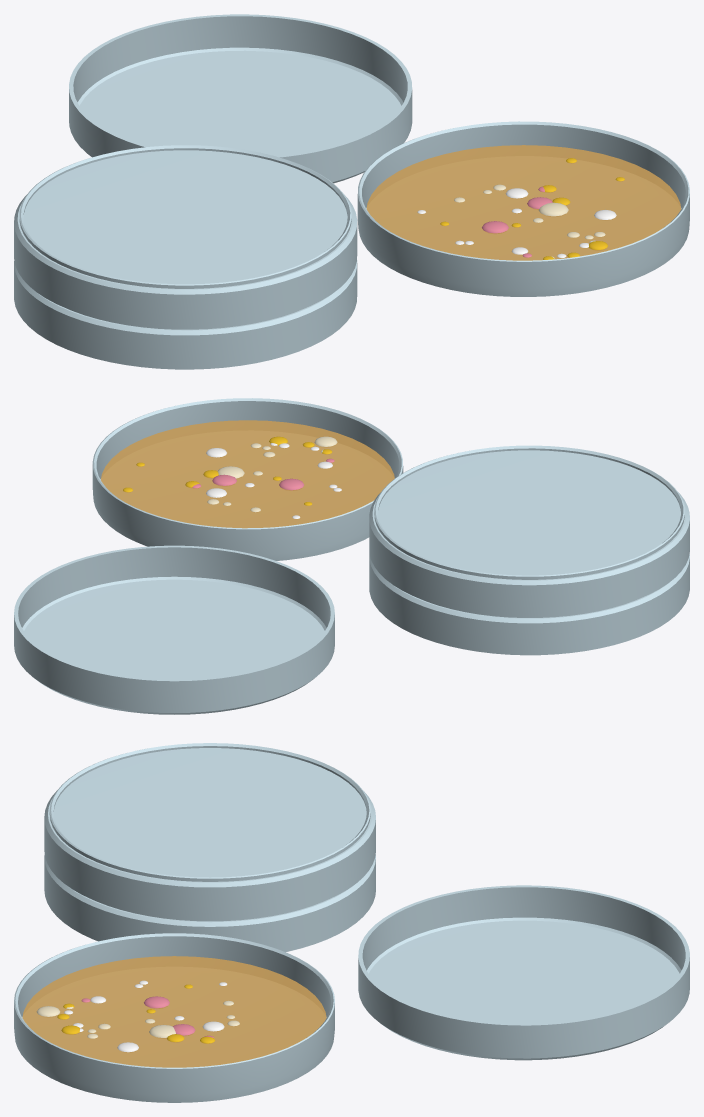
File: petri-dishes.glb
3 renders of one model, top to bottom at view 1: azimuth 30°, elevation 25°; view 2: azimuth 150°, elevation 25°; view 3: azimuth 270°, elevation 25°, orthographic. The views are drawn at different scales.
Parts seen in each view (by area): view 1: Petri_Dishes, Lid; view 2: Petri_Dishes, Lid; view 3: Petri_Dishes, Lid.
Part boxes in pixels (box(x1,y1,x2,y2)): Petri_Dishes: box(14, 121, 689, 369); Lid: box(69, 14, 412, 183); Petri_Dishes: box(92, 398, 689, 655); Lid: box(14, 545, 334, 714); Petri_Dishes: box(14, 743, 375, 1102); Lid: box(358, 885, 689, 1060).
Size of the model in its own units: 0.1915 by 0.0246 by 0.1895.
